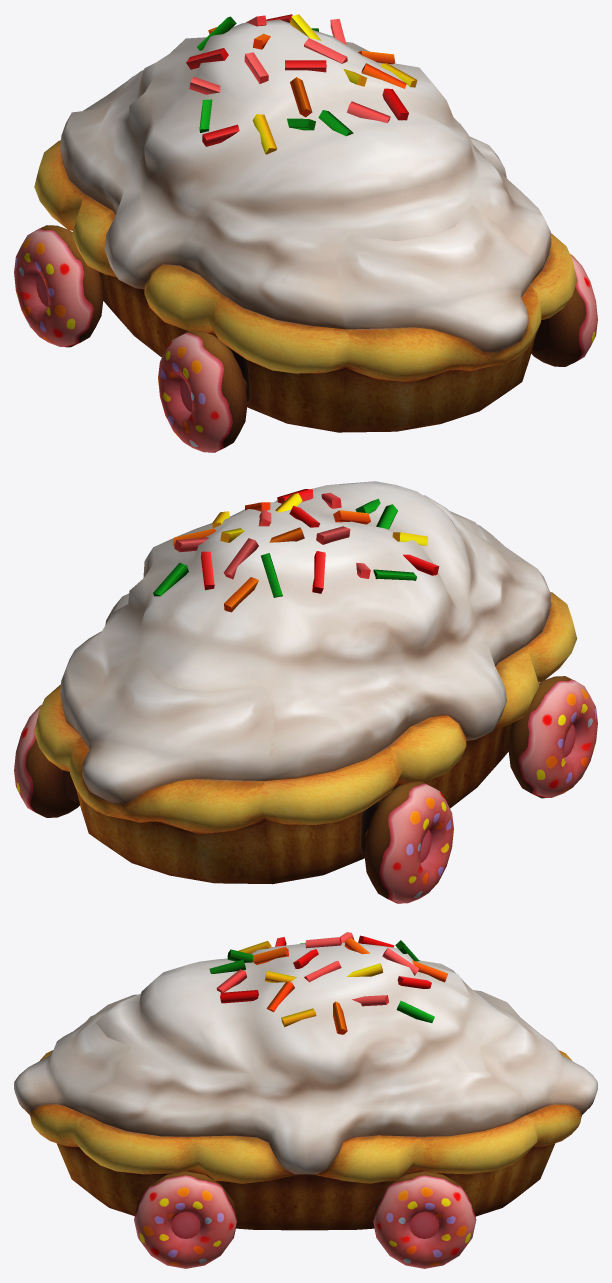
Rendered from it_piekart.dae.
3 views of the same model, one above another, from view 1: azimuth 30°, elevation 25°; view 2: azimuth 150°, elevation 25°; view 3: azimuth 270°, elevation 25° (orthographic). The views are drawn at different scales.
Parts seen in each view (by area): view 1: Group1, Group9, Group8, Group2, Group7, Group3, Group4; view 2: Group1, Group8, Group9, Group2, Group6, Group4, Group3; view 3: Group1, Group6, Group7, Group2, Group4, Group3.
Boxes of the visible parts, x1,y1,x2,y2 form: Group1: (34, 19, 577, 432); Group9: (158, 330, 247, 452); Group8: (14, 225, 103, 347); Group2: (189, 14, 417, 154); Group7: (531, 254, 597, 366); Group3: (287, 88, 408, 136); Group4: (197, 14, 318, 50); Group1: (34, 481, 577, 884); Group8: (364, 781, 453, 903); Group9: (508, 676, 597, 798); Group2: (173, 493, 439, 580); Group6: (14, 705, 79, 817); Group4: (153, 538, 282, 612); Group3: (277, 489, 397, 529); Group1: (14, 942, 597, 1230); Group6: (372, 1171, 476, 1268); Group7: (134, 1171, 237, 1268); Group2: (238, 932, 388, 1034); Group4: (382, 940, 447, 1022); Group3: (209, 949, 258, 1003).
Bounding box in the file's own units: 13.98 × 10.03 × 21.34.
1 material, 1 textured.
